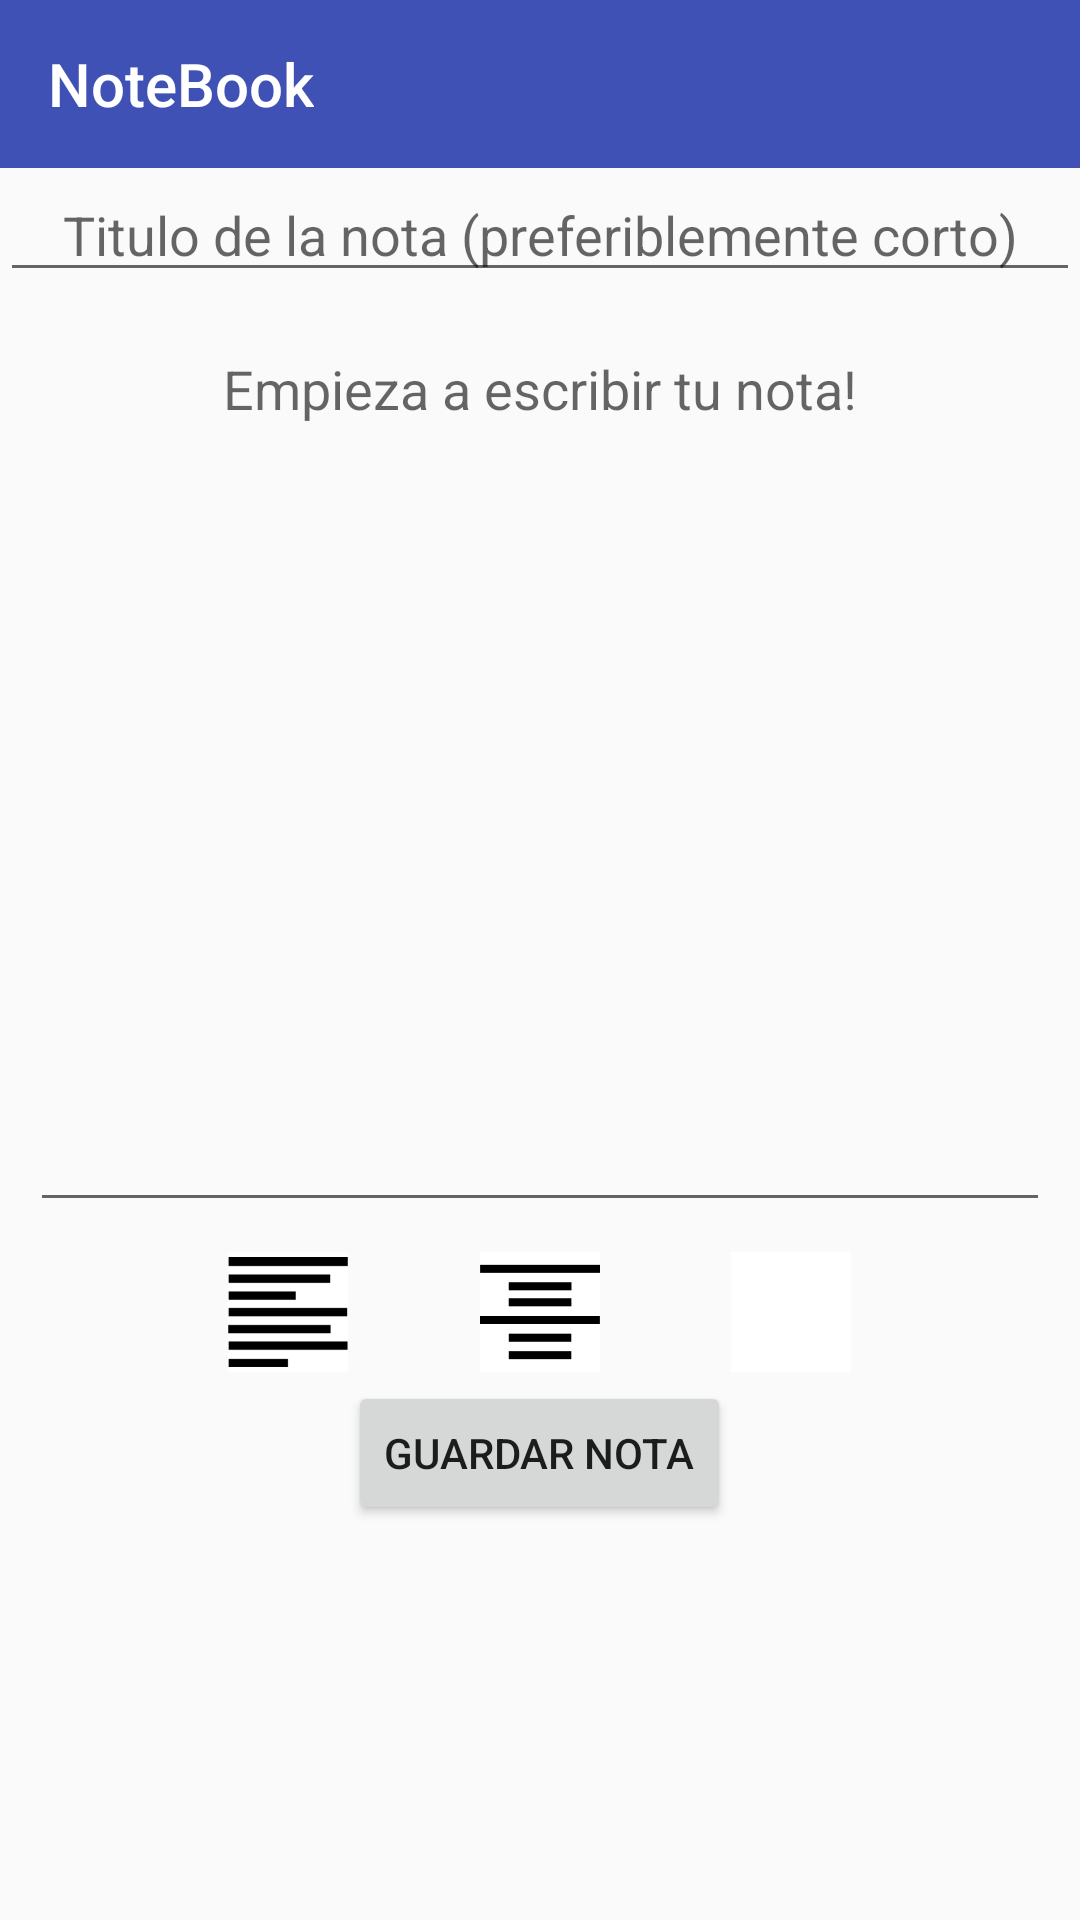

Icons on this 1080px×1920px Android screen, each with the point to tap as point (x, y):
center: point (540, 1312)
left: point (288, 1312)
